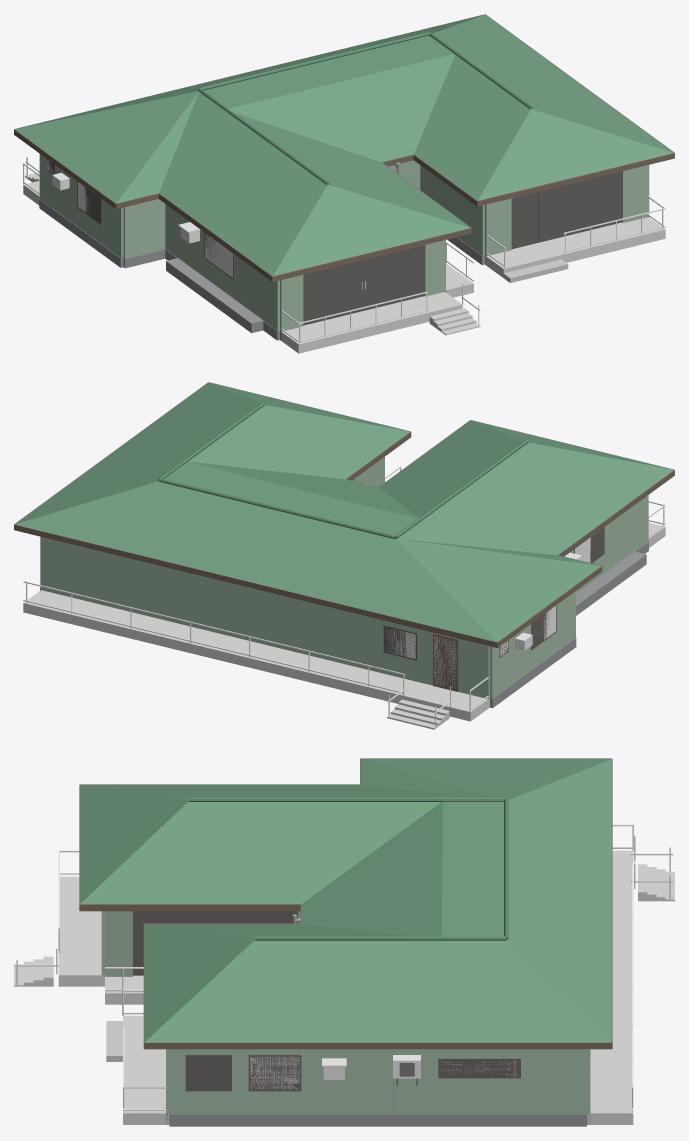
The model's file is multi_purpose_administrative_building.glb.
3 views of the same model, one above another, from view 1: azimuth 30°, elevation 25°; view 2: azimuth 150°, elevation 25°; view 3: azimuth 270°, elevation 25° (orthographic). The views are drawn at different scales.
Visible parts, largest first — view 1: MP_Roof_Compound, MP_Batch_MP_WallGreen, MP_Batch_MP_BronzeFrame, MP_Batch_MP_ConcreteFloor, MP_Batch_MP_FasciaBrown, MP_Batch_MP_PlinthGrey, MP_Batch_MP_RailingWhite, MP_Batch_MP_WallInnerGreen, MP_Batch_MP_RidgeGreen, MP_Ver_Step_HexTile, MP_Batch_MP_ACWhite; view 2: MP_Roof_Compound, MP_Batch_MP_WallGreen, MP_Batch_MP_ConcreteFloor, MP_Batch_MP_FasciaBrown, MP_Batch_MP_RailingWhite, MP_Batch_MP_PlinthGrey, MP_Batch_MP_RidgeGreen, MP_Batch_MP_BronzeFrame, MP_Batch_MP_WallInnerGreen; view 3: MP_Roof_Compound, MP_Batch_MP_WallGreen, MP_Batch_MP_ConcreteFloor, MP_Batch_MP_BronzeFrame, MP_Batch_MP_FasciaBrown, MP_Batch_MP_PlinthGrey, MP_Batch_MP_RailingWhite, MP_Batch_MP_RidgeGreen, MP_Batch_MP_WallInnerGreen, MP_Batch_MP_ACWhite, MP_Ver_Step_HexTile.
Part boxes in pixels (bbox=[...]): MP_Roof_Compound: bbox=[15, 14, 673, 276]; MP_Batch_MP_WallGreen: bbox=[39, 154, 649, 331]; MP_Batch_MP_BronzeFrame: bbox=[46, 159, 621, 325]; MP_Batch_MP_ConcreteFloor: bbox=[23, 172, 665, 353]; MP_Batch_MP_FasciaBrown: bbox=[14, 14, 674, 281]; MP_Batch_MP_PlinthGrey: bbox=[39, 199, 649, 340]; MP_Batch_MP_RailingWhite: bbox=[23, 157, 665, 343]; MP_Batch_MP_WallInnerGreen: bbox=[388, 160, 484, 290]; MP_Batch_MP_RidgeGreen: bbox=[198, 32, 532, 185]; MP_Ver_Step_HexTile: bbox=[503, 259, 568, 282]; MP_Batch_MP_ACWhite: bbox=[52, 172, 200, 243]; MP_Roof_Compound: bbox=[15, 382, 673, 642]; MP_Batch_MP_WallGreen: bbox=[40, 495, 648, 698]; MP_Batch_MP_ConcreteFloor: bbox=[23, 522, 665, 729]; MP_Batch_MP_FasciaBrown: bbox=[14, 382, 674, 691]; MP_Batch_MP_RailingWhite: bbox=[23, 466, 665, 726]; MP_Batch_MP_PlinthGrey: bbox=[40, 541, 648, 708]; MP_Batch_MP_RidgeGreen: bbox=[158, 402, 528, 539]; MP_Batch_MP_BronzeFrame: bbox=[383, 527, 604, 660]; MP_Batch_MP_WallInnerGreen: bbox=[352, 457, 384, 486]; MP_Roof_Compound: bbox=[80, 758, 611, 1042]; MP_Batch_MP_WallGreen: bbox=[101, 911, 590, 1114]; MP_Batch_MP_ConcreteFloor: bbox=[14, 850, 674, 1124]; MP_Batch_MP_BronzeFrame: bbox=[133, 911, 520, 1091]; MP_Batch_MP_FasciaBrown: bbox=[79, 758, 612, 1049]; MP_Batch_MP_PlinthGrey: bbox=[105, 976, 590, 1126]; MP_Batch_MP_RailingWhite: bbox=[14, 824, 673, 1111]; MP_Batch_MP_RidgeGreen: bbox=[189, 797, 508, 940]; MP_Batch_MP_WallInnerGreen: bbox=[105, 911, 300, 976]; MP_Batch_MP_ACWhite: bbox=[322, 1055, 420, 1079]; MP_Ver_Step_HexTile: bbox=[106, 1021, 122, 1061].
Size of the model in its own units: 20.37 by 4.67 by 20.01.
